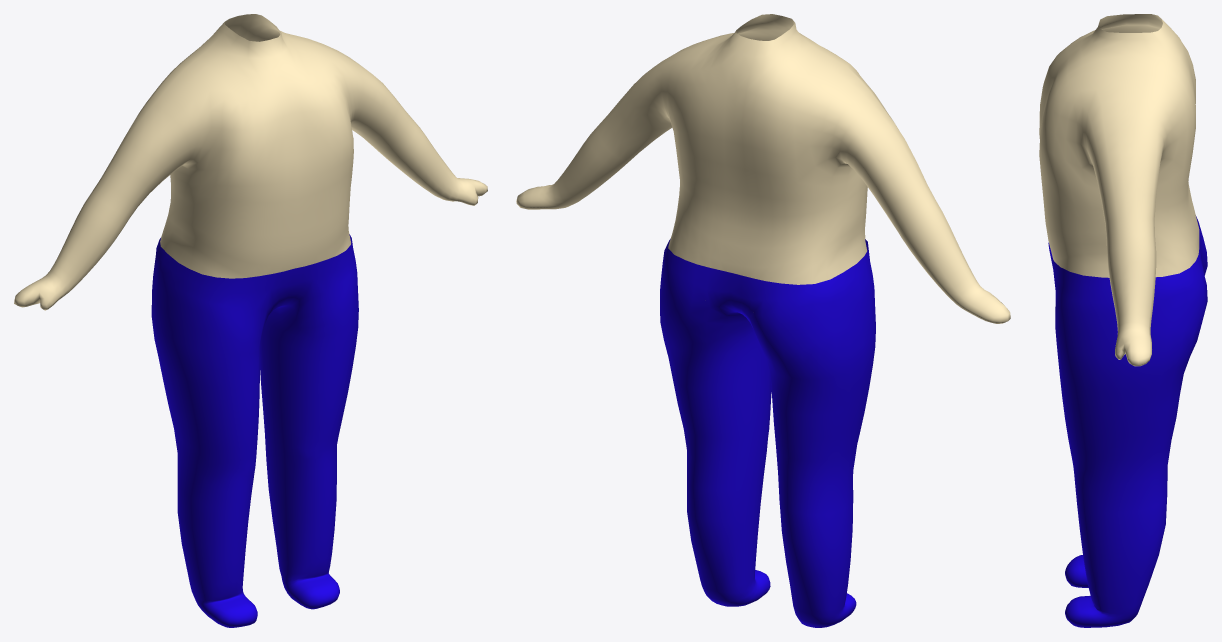
Rendered from sox_blue_santa.fbx.
3 renders of one model, left to right at view 1: azimuth 30°, elevation 25°; view 2: azimuth 150°, elevation 25°; view 3: azimuth 270°, elevation 25°, orthographic. The views are drawn at different scales.
Parts seen in each view (by area): view 1: body, sox_santa; view 2: body, sox_santa; view 3: body, sox_santa.
Boxes of the visible parts, <box> form: body: <box>14,14,487,310</box>; sox_santa: <box>151,234,358,627</box>; body: <box>516,14,1010,323</box>; sox_santa: <box>660,239,875,627</box>; body: <box>1039,14,1199,366</box>; sox_santa: <box>1048,216,1207,627</box>.
Size of the model in its own units: 2.15 by 2.48 by 0.6546.
